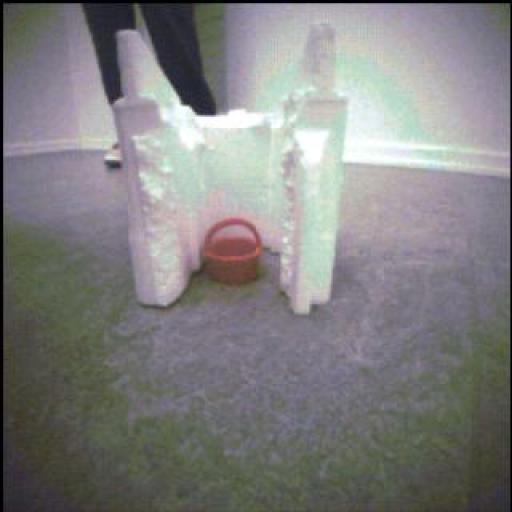Bucket: (205, 219, 264, 286)
